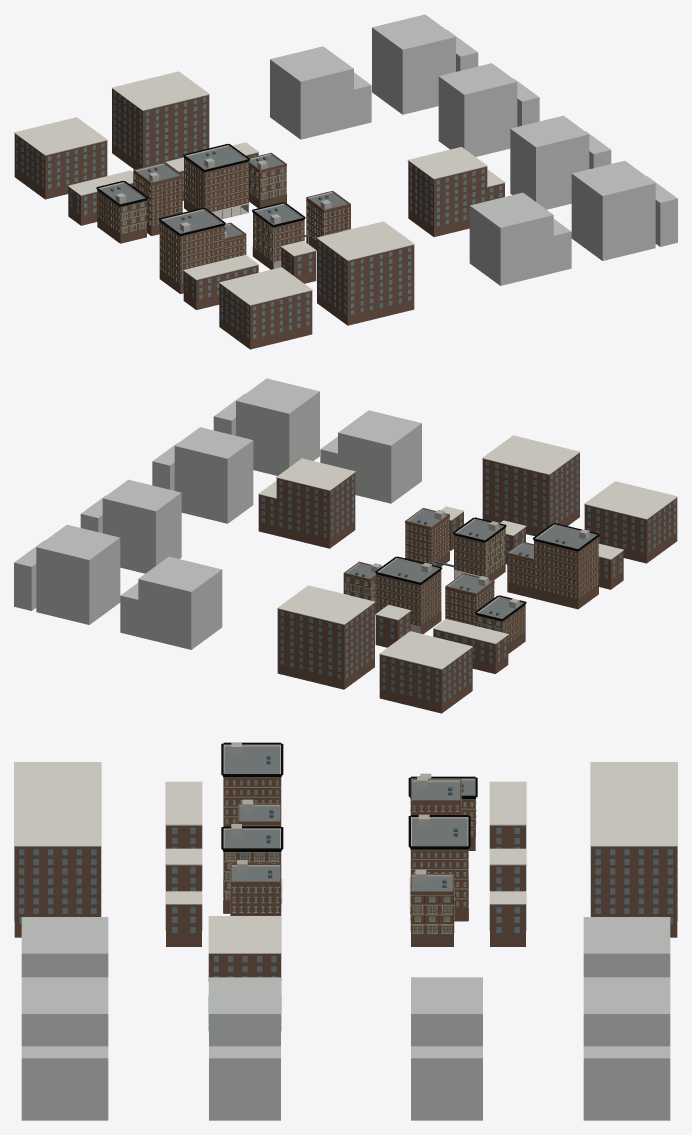
Rendered from street-sample.glb.
The picture shows the model from 3 angles, top to bottom: view 1: azimuth 30°, elevation 25°; view 2: azimuth 150°, elevation 25°; view 3: azimuth 270°, elevation 25°; orthographic projection. The views are drawn at different scales.
Parts seen in each view (by area): view 1: Static / D2 untextured massing.005, Static / MI_RedBrick.015, Static / Density pale trim.005, Static / MI_RedBrick_Pale.015, Static / Context glazing.003, Static / MI_Trim.025, Static / Density roof membrane.005, Static / MI_Glass.020, Static / Density limestone.005, Static / MI_FakeInterior.020; view 2: Static / D2 untextured massing.005, Static / MI_RedBrick.015, Static / Density pale trim.005, Static / MI_RedBrick_Pale.015, Static / Context glazing.003, Static / MI_Trim.025, Static / Density roof membrane.005, Static / MI_Glass.020, Static / MI_FakeInterior.020, Static / Density limestone.005; view 3: Static / D2 untextured massing.005, Static / Density pale trim.005, Static / MI_RedBrick.015, Static / Density roof membrane.005, Static / MI_Trim.025, Static / Context glazing.003, Static / MI_RedBrick_Pale.015, Static / MI_Glass.020, Static / Density limestone.005, Static / MI_FakeInterior.020.
Boxes of the visible parts, <box> form: Static / D2 untextured massing.005: <box>270,14,677,285</box>; Static / MI_RedBrick.015: <box>14,89,504,349</box>; Static / Density pale trim.005: <box>14,71,505,305</box>; Static / MI_RedBrick_Pale.015: <box>97,158,304,284</box>; Static / Context glazing.003: <box>16,92,502,338</box>; Static / MI_Trim.025: <box>96,143,349,283</box>; Static / Density roof membrane.005: <box>100,146,347,237</box>; Static / MI_Glass.020: <box>98,161,348,282</box>; Static / Density limestone.005: <box>115,158,331,269</box>; Static / MI_FakeInterior.020: <box>123,165,348,282</box>; Static / D2 untextured massing.005: <box>14,378,421,649</box>; Static / MI_RedBrick.015: <box>258,453,677,713</box>; Static / Density pale trim.005: <box>258,435,677,669</box>; Static / MI_RedBrick_Pale.015: <box>343,528,598,644</box>; Static / Context glazing.003: <box>261,456,675,702</box>; Static / MI_Trim.025: <box>343,517,599,643</box>; Static / Density roof membrane.005: <box>347,510,595,618</box>; Static / MI_Glass.020: <box>346,520,597,642</box>; Static / MI_FakeInterior.020: <box>346,522,576,631</box>; Static / Density limestone.005: <box>371,510,589,633</box>; Static / D2 untextured massing.005: <box>21,917,670,1120</box>; Static / Density pale trim.005: <box>14,744,677,995</box>; Static / MI_RedBrick.015: <box>14,779,677,977</box>; Static / Density roof membrane.005: <box>224,746,474,891</box>; Static / MI_Trim.025: <box>221,742,477,933</box>; Static / Context glazing.003: <box>14,826,677,1030</box>; Static / MI_RedBrick_Pale.015: <box>223,778,475,933</box>; Static / MI_Glass.020: <box>226,780,472,932</box>; Static / Density limestone.005: <box>223,742,468,921</box>; Static / MI_FakeInterior.020: <box>226,781,472,931</box>.
Size of the model in its own units: 194 by 28.38 by 184.
Materials: 13 (5 with a texture image).
